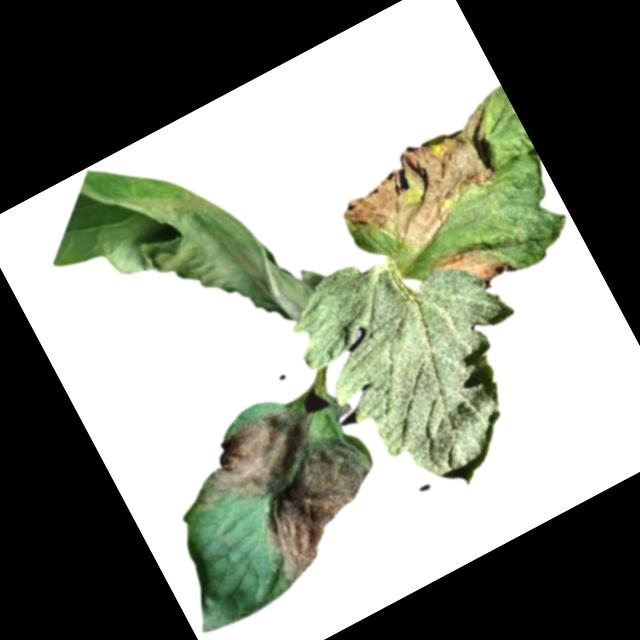Late_blight: (22, 104, 321, 407), (172, 382, 403, 612), (327, 104, 533, 276), (430, 232, 515, 306)
